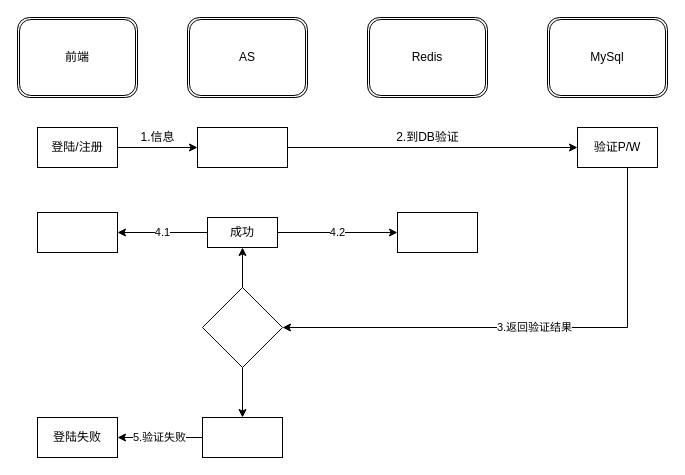
This 685x475 diagram has some shape labels left out. Each missing label, with the box of its shape:
失败: (202, 416, 282, 458)
存入Redis: (396, 212, 478, 252)
是否成功: (202, 286, 282, 368)
返回token: (36, 212, 118, 252)
验证登录: (196, 126, 288, 168)
